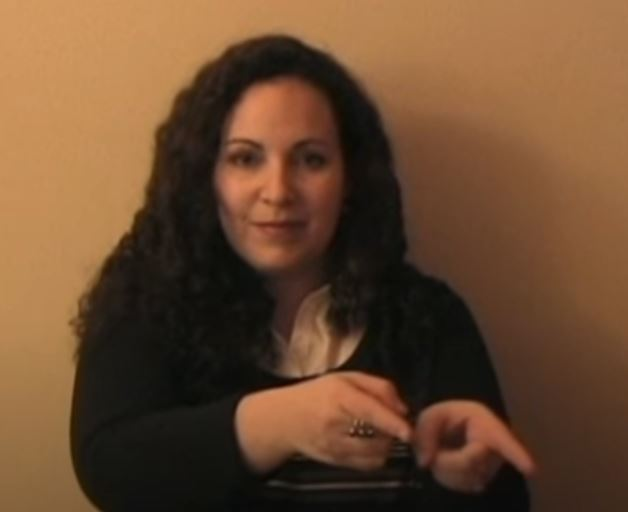go: (265, 346, 564, 502)
